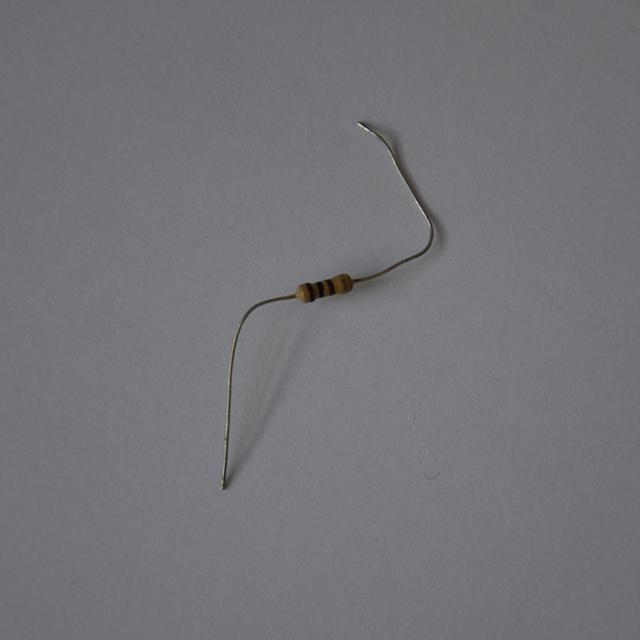black: (317, 281, 325, 296)
brown: (305, 283, 315, 300), (325, 279, 335, 294)
gold: (339, 273, 349, 291)
resistor: (286, 263, 364, 313)
